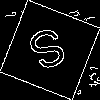S: (24, 24, 74, 81)
